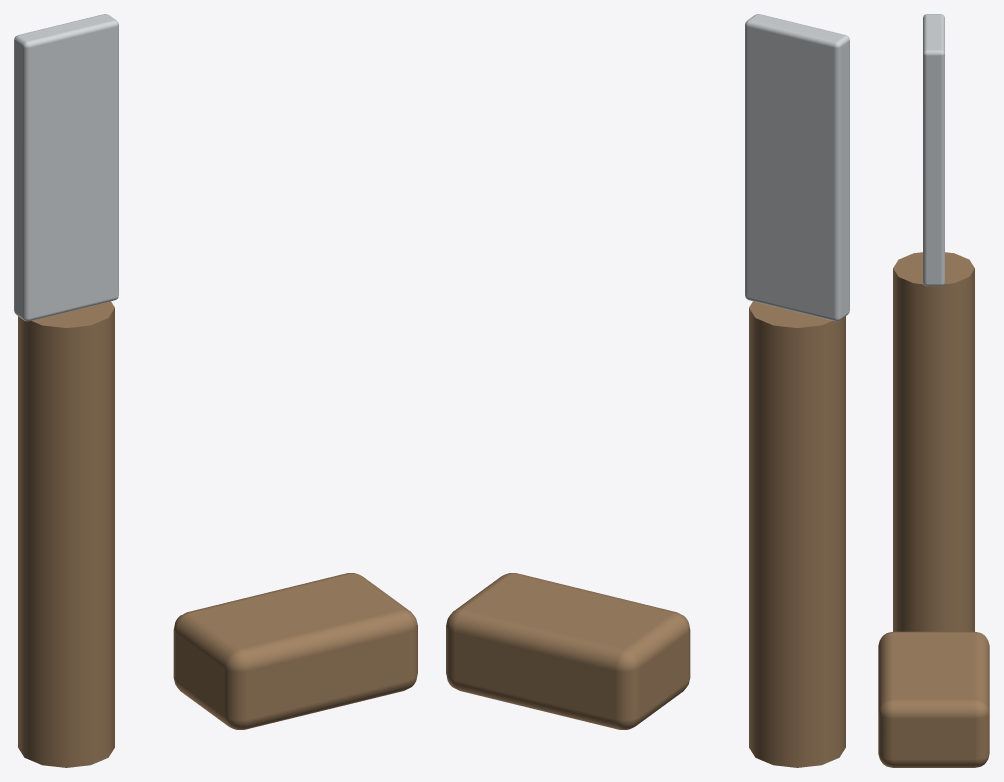
File: marquetry-and-veneer-inlay-workshop-marquetry-knife-an-c81f50ce__39092.glb
The picture shows the model from 3 angles, left to right: view 1: azimuth 30°, elevation 25°; view 2: azimuth 150°, elevation 25°; view 3: azimuth 270°, elevation 25°; orthographic projection. The views are drawn at different scales.
Parts seen in each view (by area): view 1: marquetry-knife-and-blade-guard; view 2: marquetry-knife-and-blade-guard; view 3: marquetry-knife-and-blade-guard.
Boxes of the visible parts, x1=… form: marquetry-knife-and-blade-guard: x1=14, y1=14, x2=417, y2=767; marquetry-knife-and-blade-guard: x1=446, y1=14, x2=849, y2=767; marquetry-knife-and-blade-guard: x1=878, y1=14, x2=989, y2=767.
Size of the model in its own units: 0.0975 by 0.18 by 0.03.
